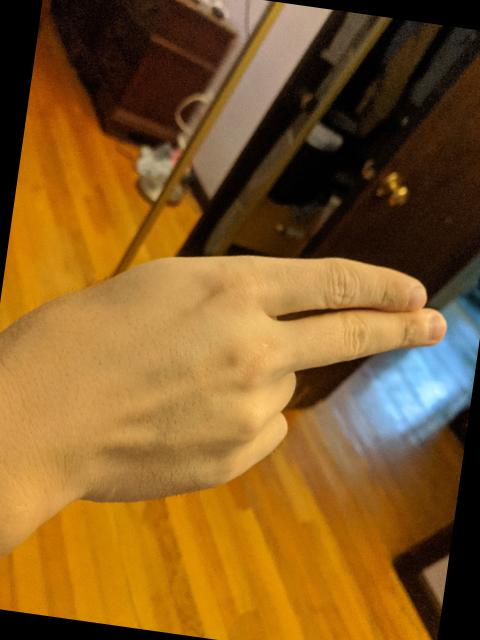H: (14, 211, 460, 559)
